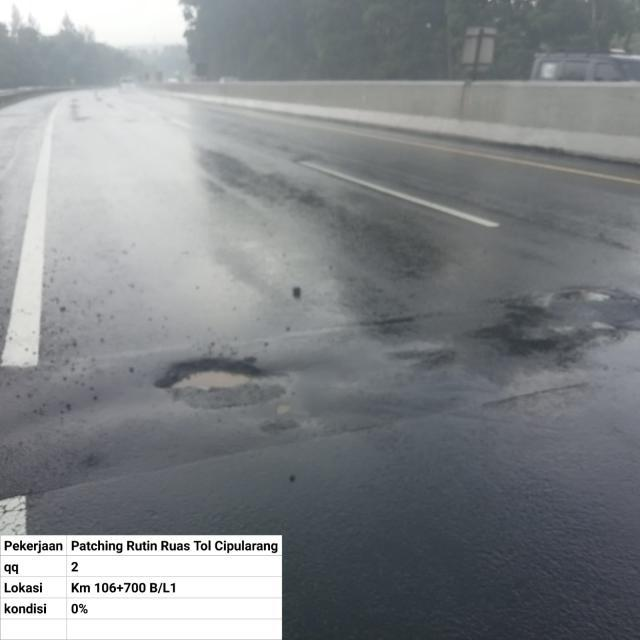Buraco: (479, 282, 640, 313), (150, 355, 269, 396), (583, 316, 621, 334)
